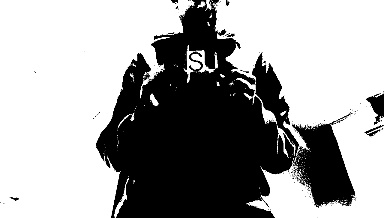S: (186, 50, 203, 72)
